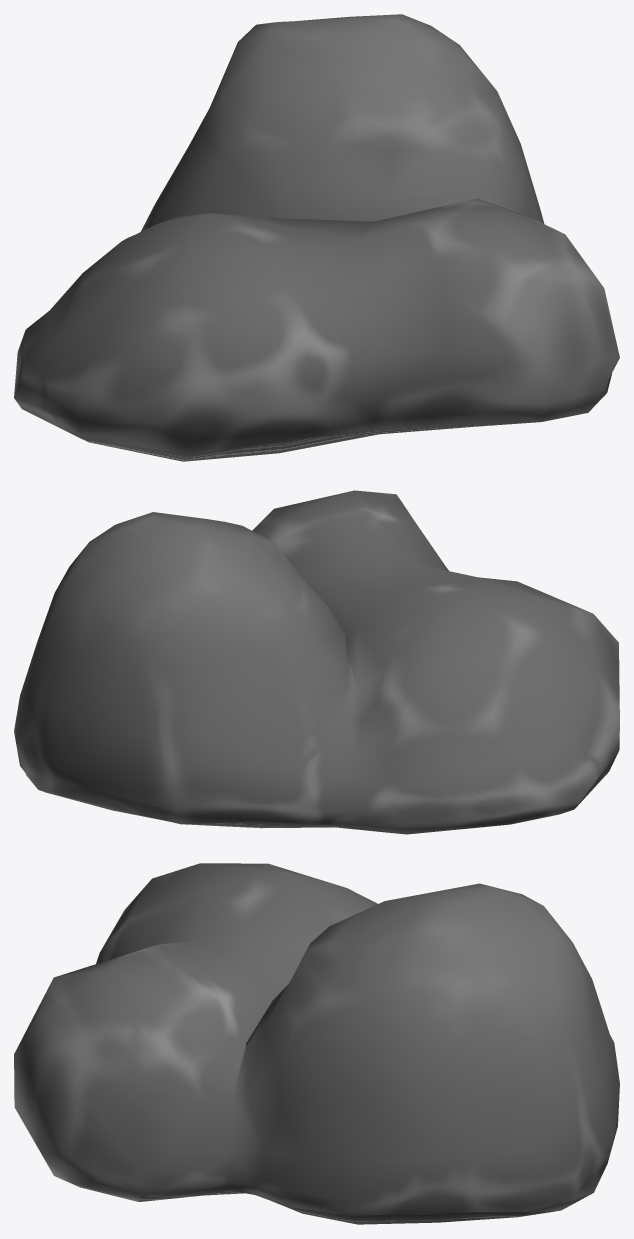
The model's file is rock_1.fbx.
3 renders of one model, top to bottom at view 1: azimuth 30°, elevation 25°; view 2: azimuth 150°, elevation 25°; view 3: azimuth 270°, elevation 25°, orthographic. The views are drawn at different scales.
Parts seen in each view (by area): view 1: rock_1; view 2: rock_1; view 3: rock_1.
Part boxes in pixels (box(x1,y1,x2,y2)): rock_1: box(14, 14, 619, 461); rock_1: box(14, 490, 619, 834); rock_1: box(14, 863, 619, 1224).
Bounding box in the file's own units: 221 × 107 × 211.
